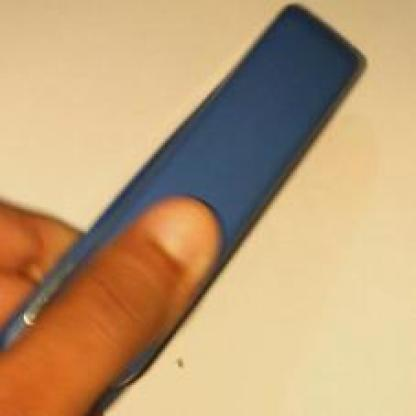stapler: (10, 11, 357, 415)
